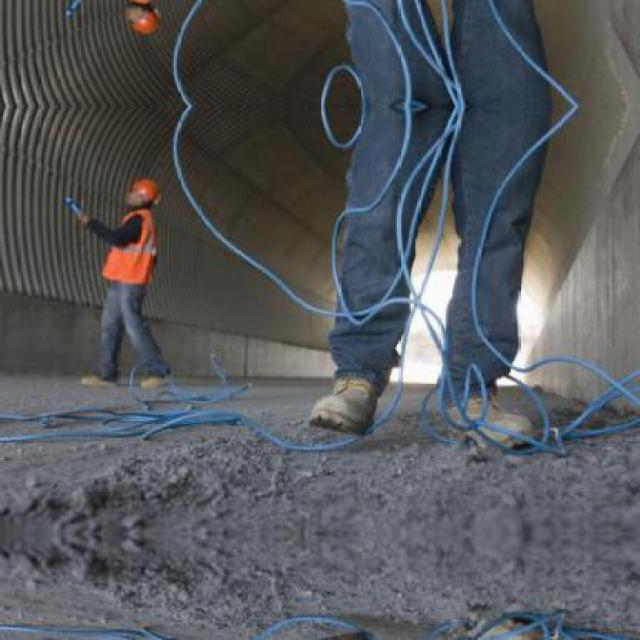Reflective-Jacket: (97, 208, 165, 296)
Safety-Helmet: (119, 171, 164, 211)
